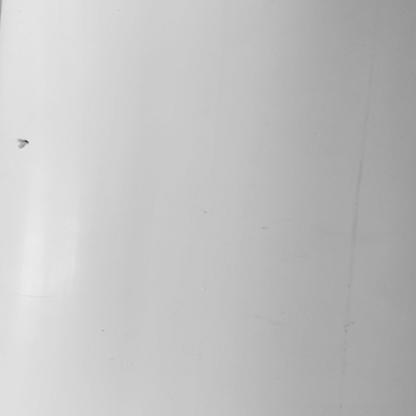kongdong: (11, 131, 66, 165)
